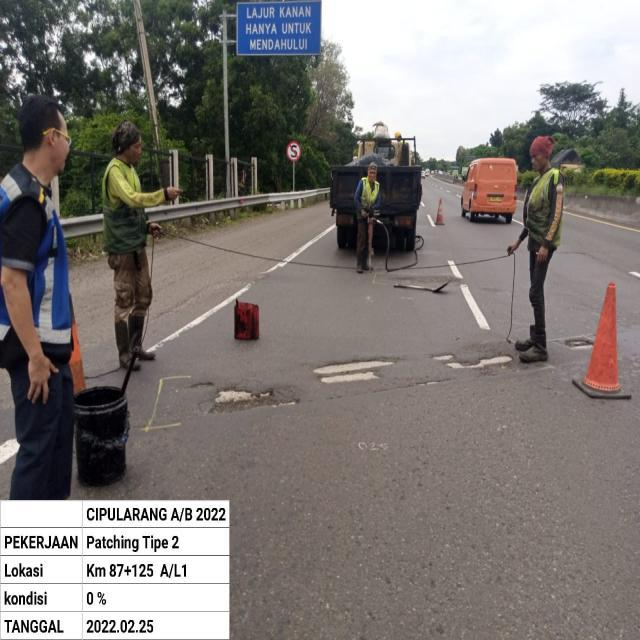Buraco: (205, 384, 303, 417), (309, 354, 404, 388), (427, 351, 517, 372), (562, 337, 594, 349), (187, 380, 216, 391)
